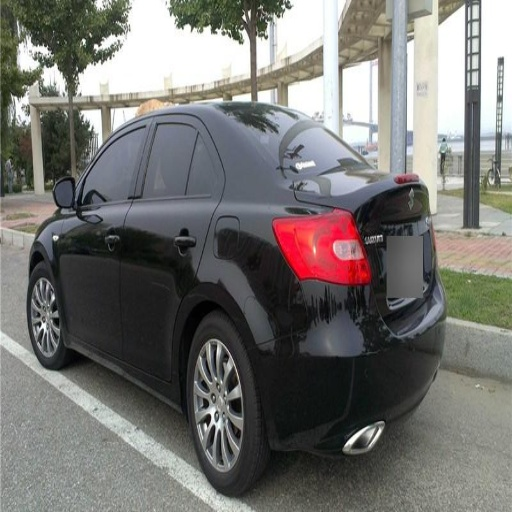back_bumper: (251, 281, 445, 448)
back_glass: (228, 109, 343, 168)
back_left_door: (123, 114, 225, 373)
